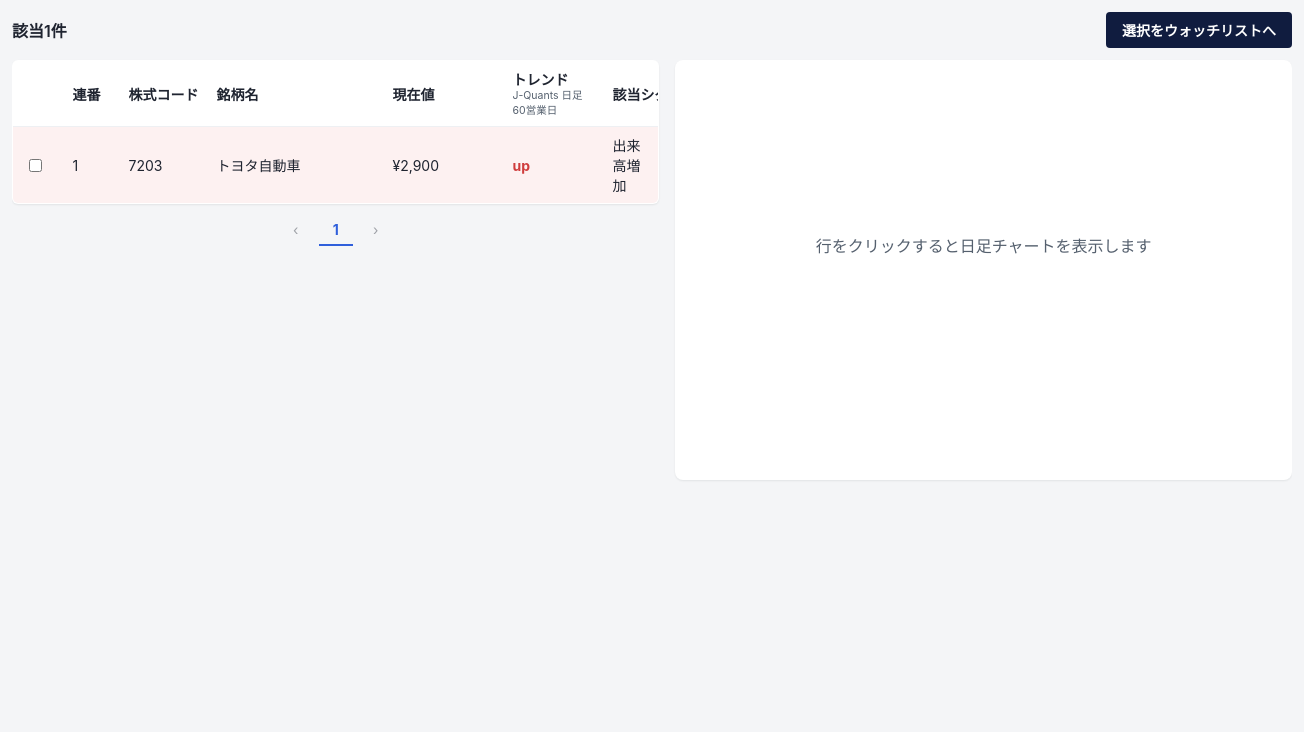
ScreeningResultsPanel register › clears the failed message on the next register attempt
Click the checkbox named "7203を選択" at x=36, y=165, box [29, 159, 42, 172]
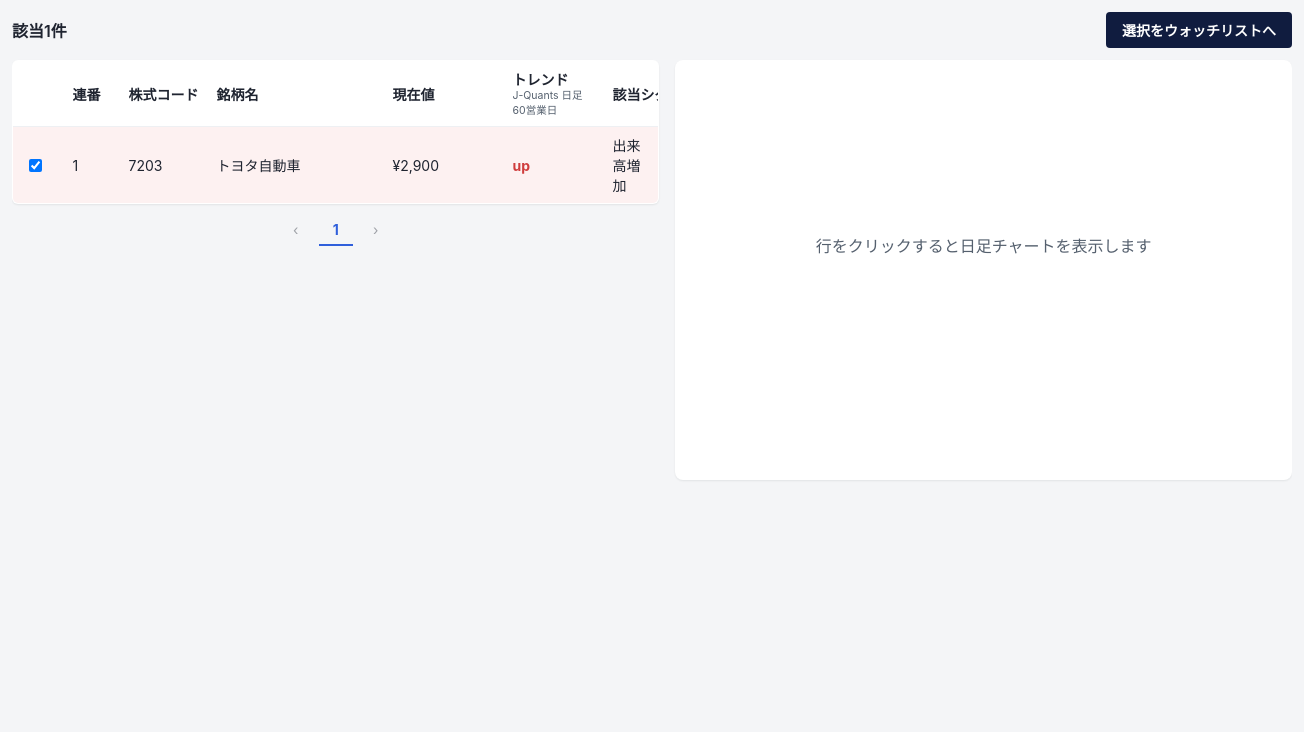
Click the button "選択をウォッチリストへ" at x=1199, y=30, box [1106, 12, 1292, 48]
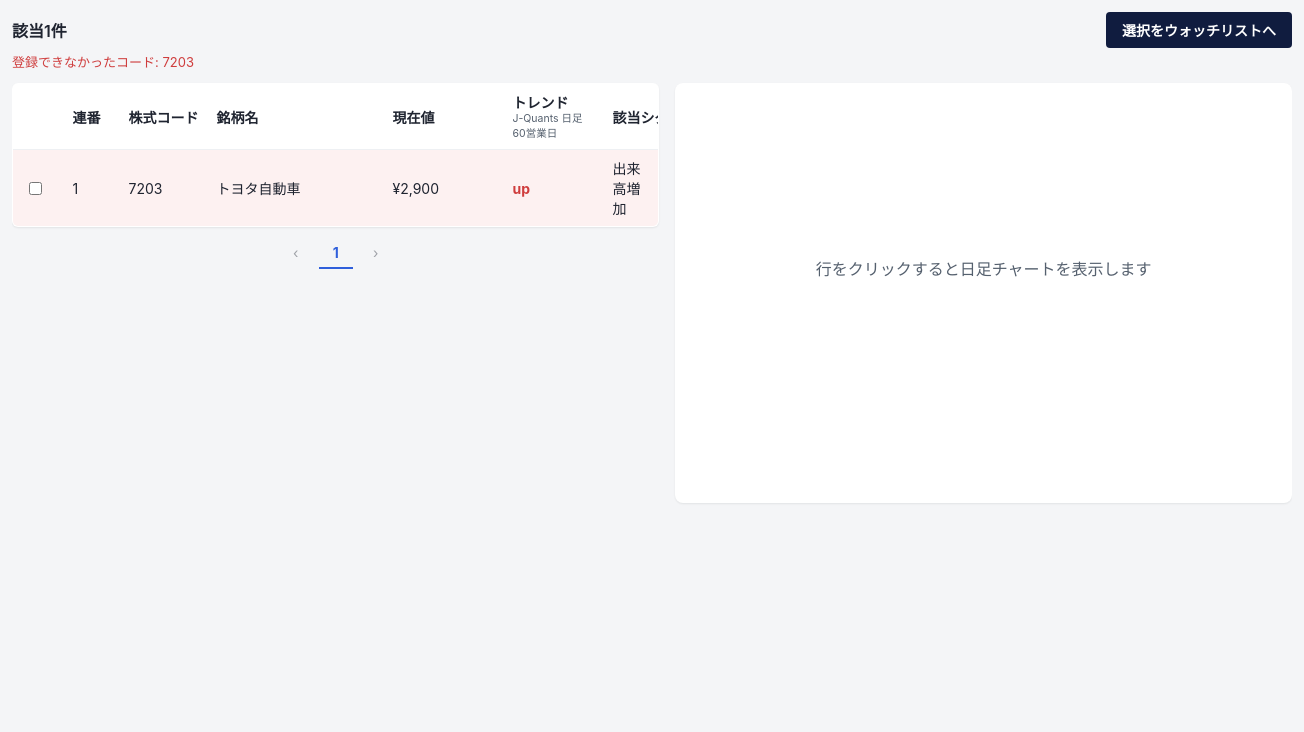
Now the message "登録できなかったコード: 7203" is shown, box [12, 54, 194, 70]
Click the checkbox named "7203を選択" at x=36, y=188, box [29, 182, 42, 195]
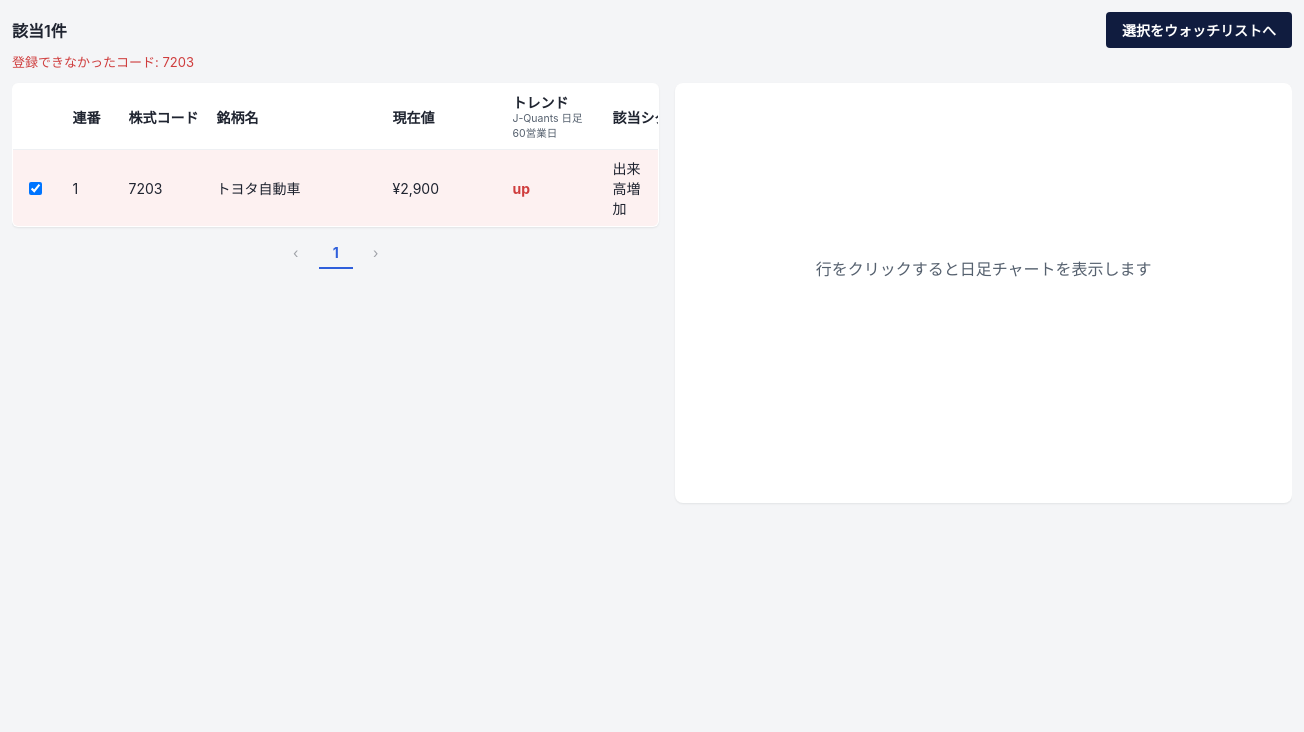
Click the button "選択をウォッチリストへ" at x=1199, y=30, box [1106, 12, 1292, 48]
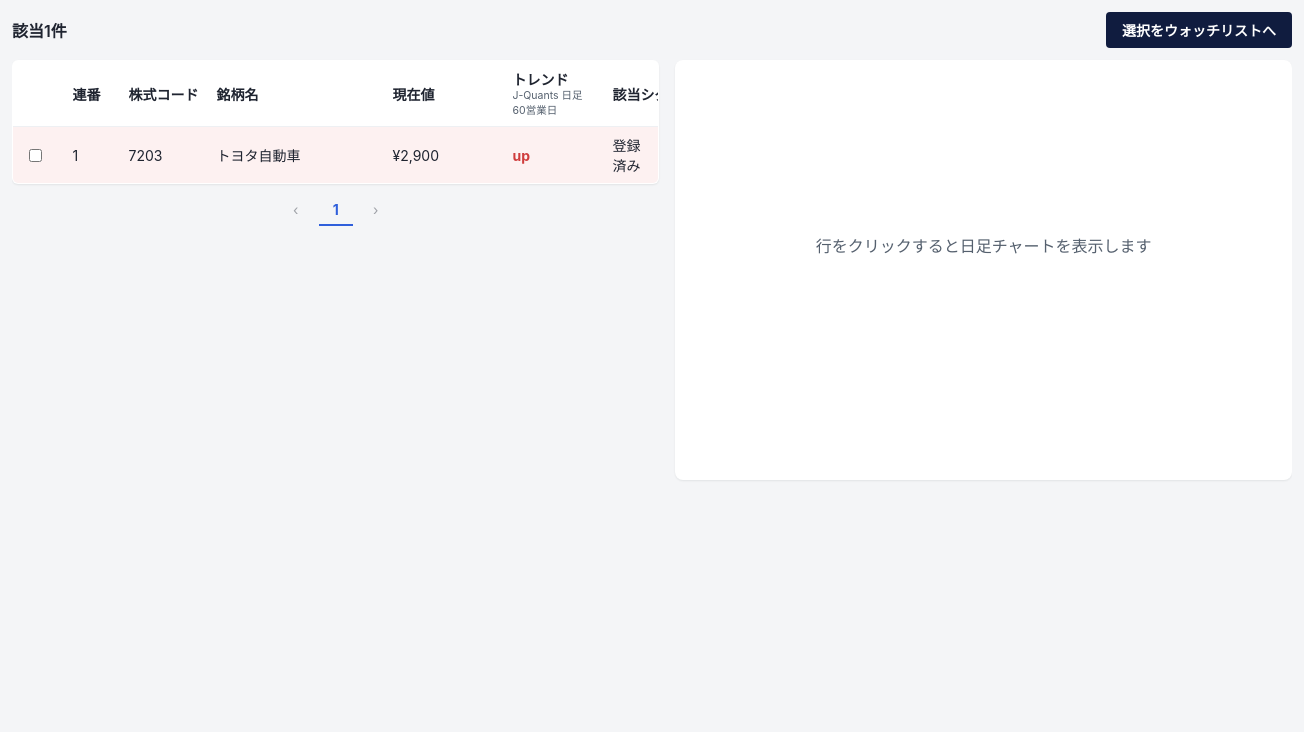
Now the message "登録できなかったコード: 7203" is gone
Now the text "登録済み" is shown, box [600, 127, 659, 184]
